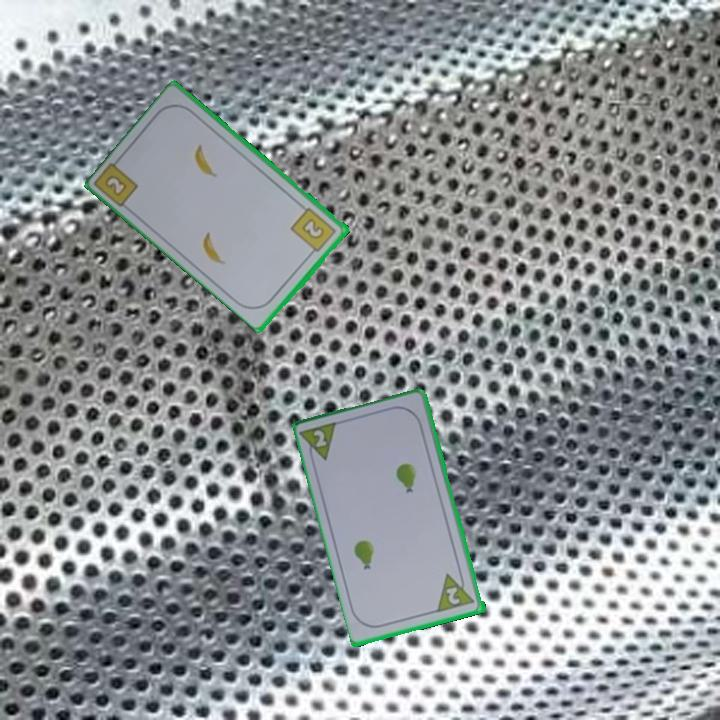2b: (288, 204, 339, 258), (103, 174, 128, 197)
2p: (443, 584, 464, 608), (310, 426, 330, 451)
